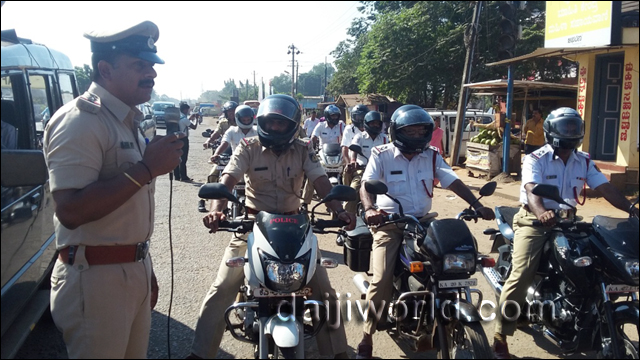helmet: (251, 94, 305, 148), (386, 103, 440, 157), (542, 103, 586, 152), (363, 109, 385, 136), (322, 101, 344, 128)
